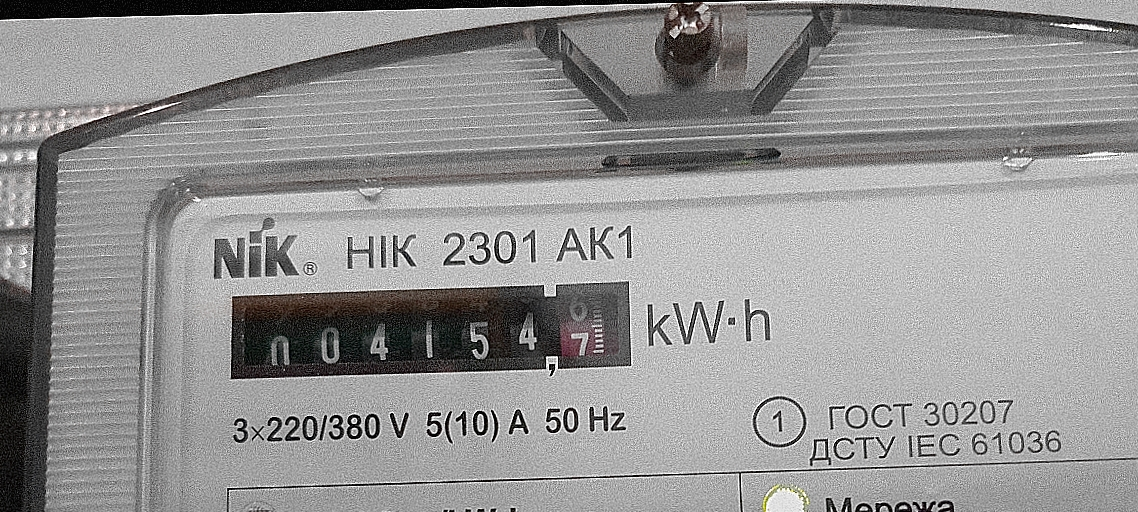0: (317, 323, 340, 364), (267, 330, 290, 365)
1: (421, 317, 435, 359)
4: (366, 320, 390, 361), (516, 307, 537, 351)
5: (466, 315, 491, 360)
6: (566, 291, 589, 321)
7: (568, 328, 589, 357)
screen: (212, 266, 648, 392)
